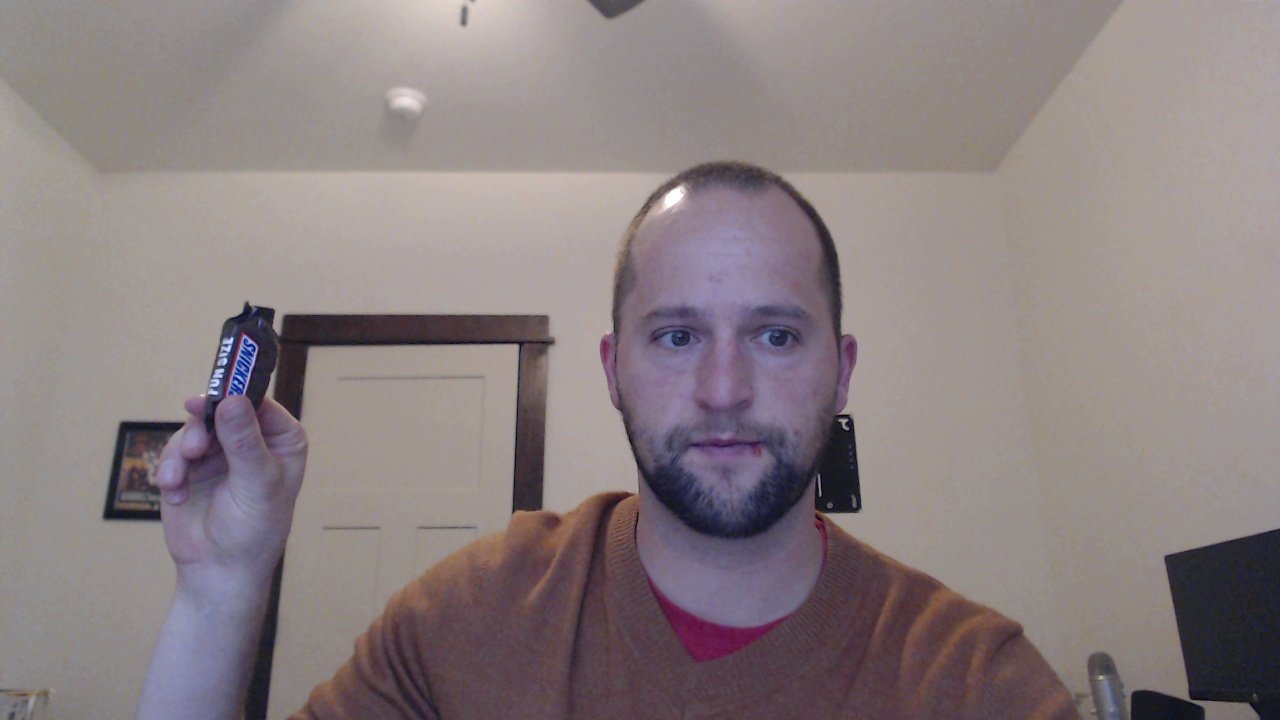snickers: (185, 283, 296, 434)
